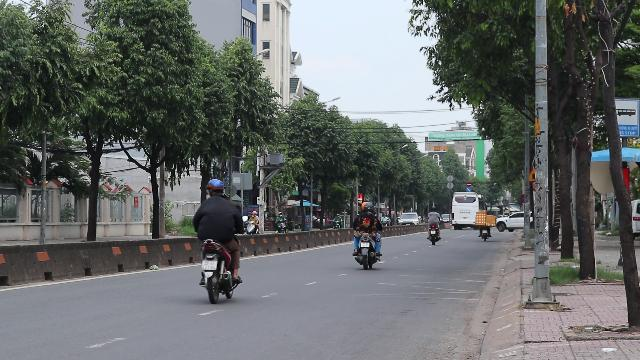helmet: (206, 178, 224, 196)
licenseplate: (201, 261, 217, 270)
motorcyclist: (192, 178, 244, 302)
